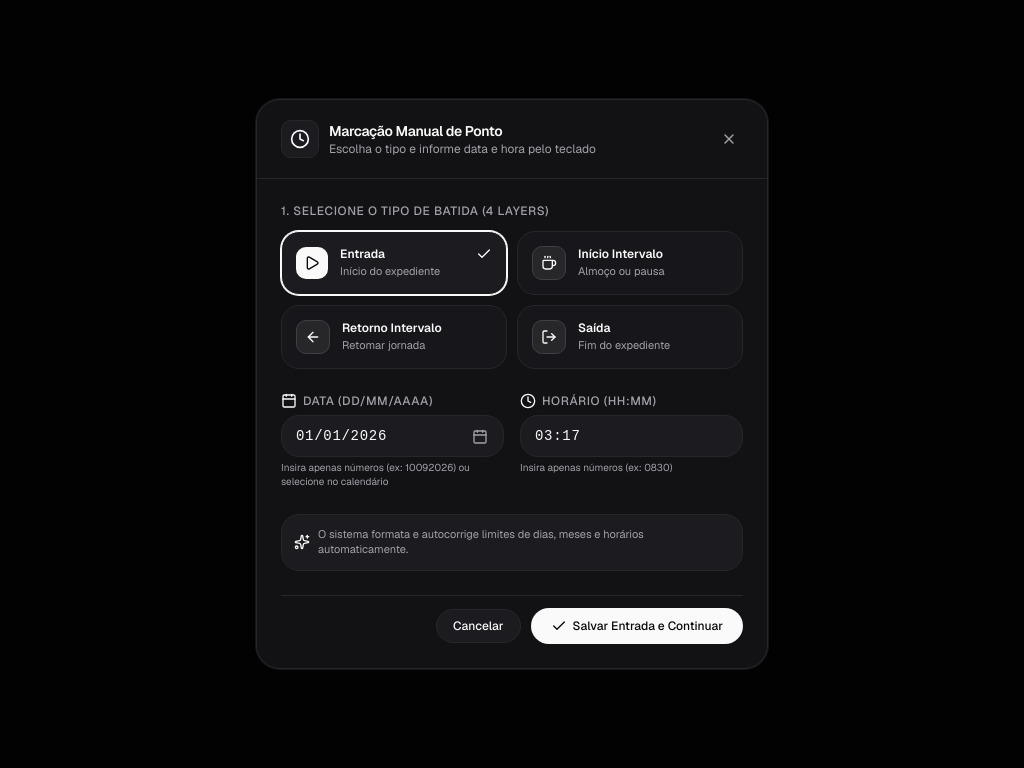
Test: ManualEntryModal Component › keeps modal open and advances layer on CLOCK_IN, and closes on CLOCK_OUT
Note: Submit Entrada
Click the button "Salvar Entrada e Continuar" at x=637, y=626, box 531,608 -> 743,644
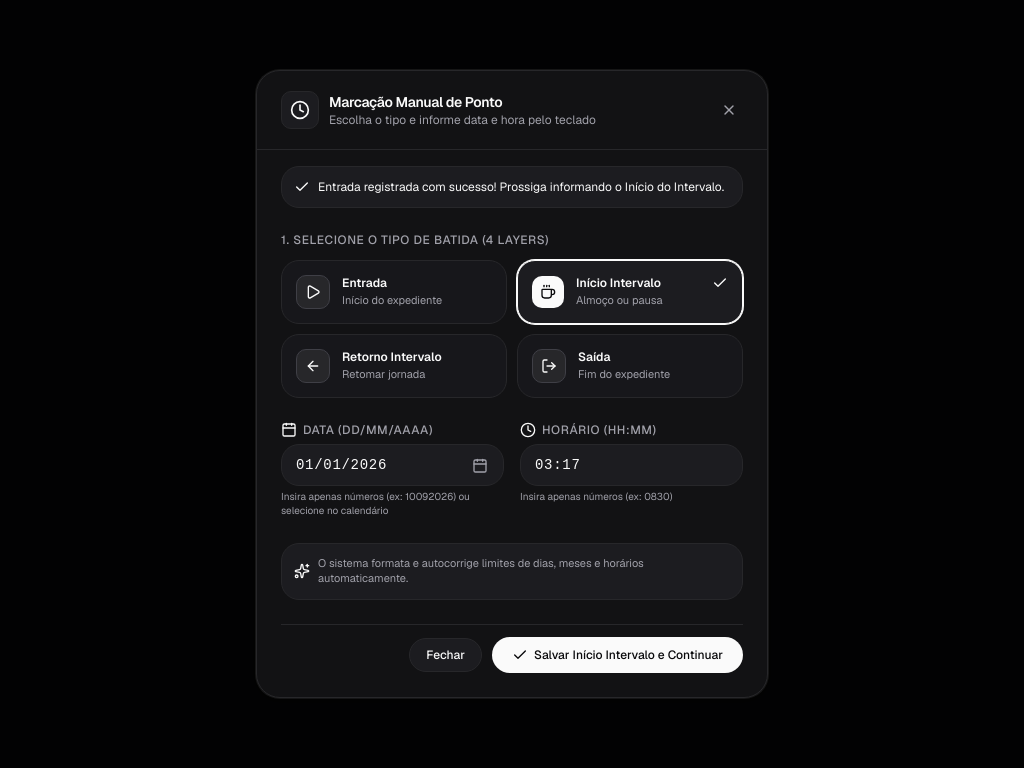
Check: the text "Entrada registrada com sucesso! Prossiga informando o Início do Intervalo" is shown, box 318,179 -> 724,195
Check: the button "Salvar Início Intervalo e Continuar" is shown, box 492,637 -> 743,673
